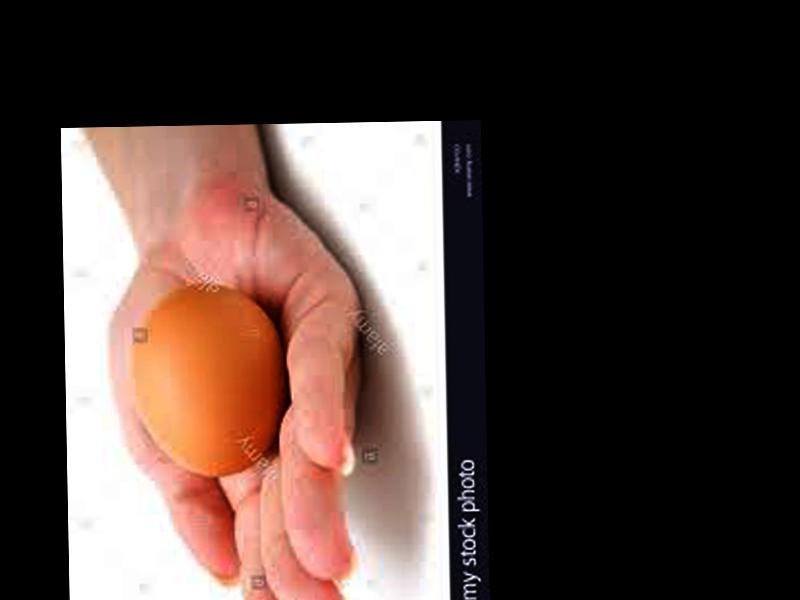Eggs: (127, 281, 286, 476)
